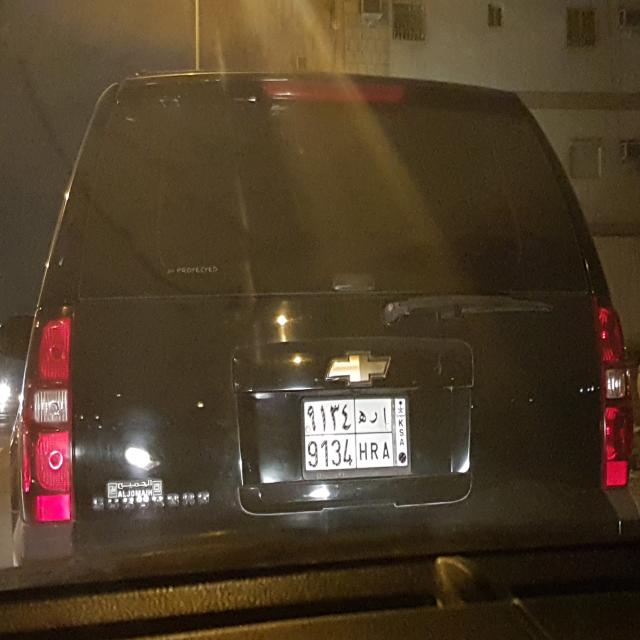license_plate: (300, 394, 412, 480)
